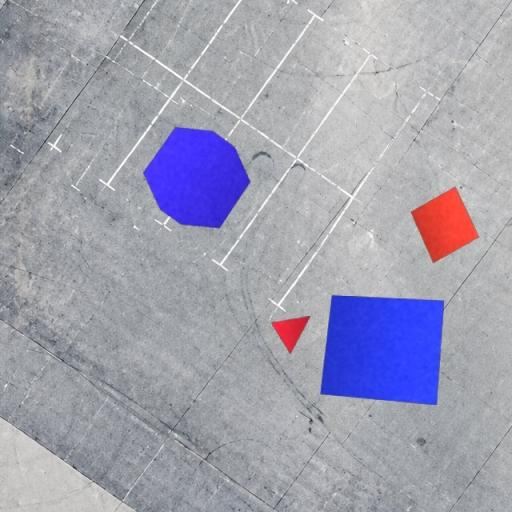BLUE_SQUARE: (319, 294, 445, 406)
RED_SQUARE: (410, 186, 480, 264)
